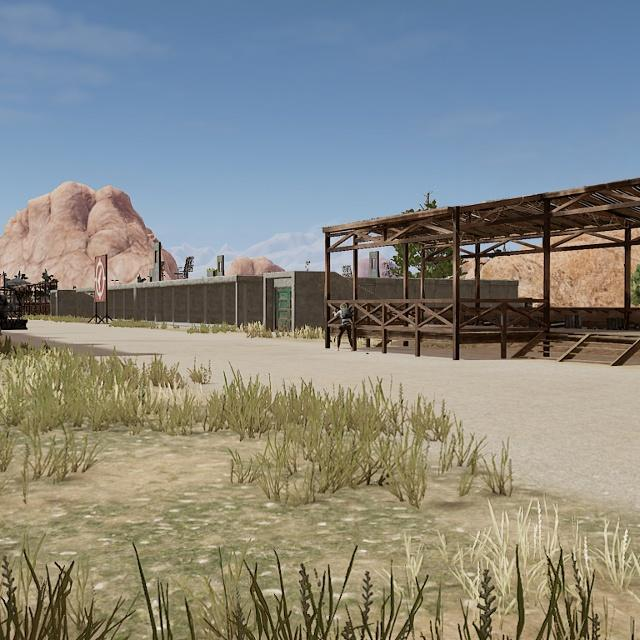head: (339, 301, 349, 310)
people: (333, 300, 359, 352)
